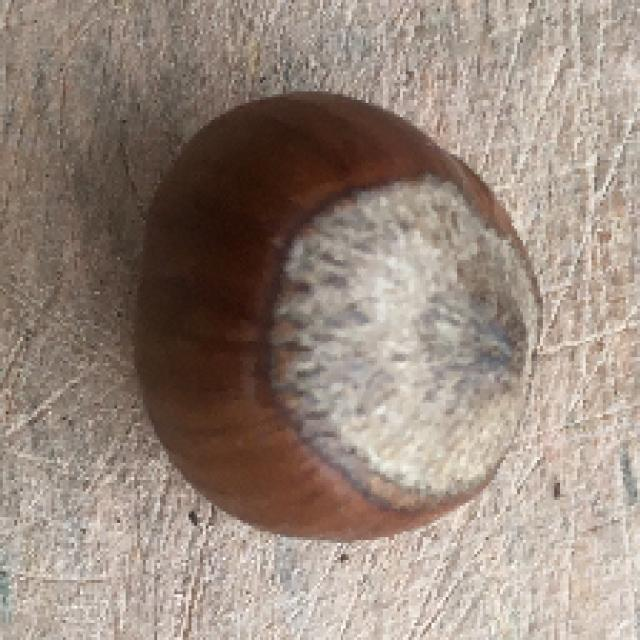damagedHazelnut: (126, 85, 544, 546)
